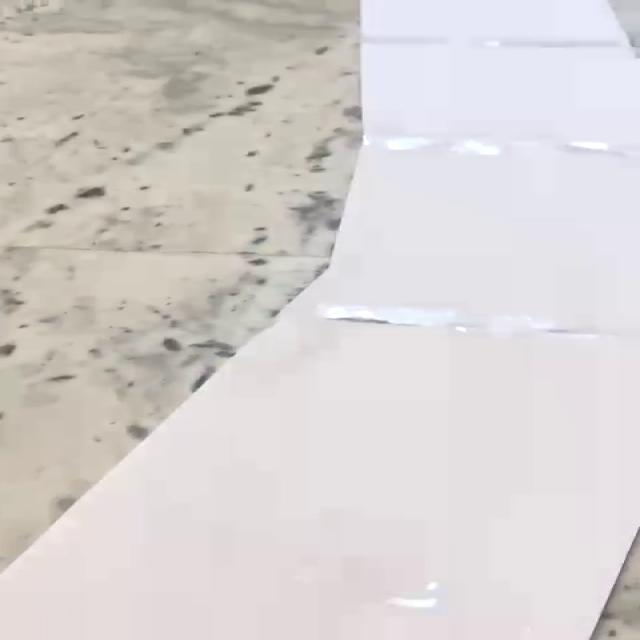road: (0, 0, 640, 640)
